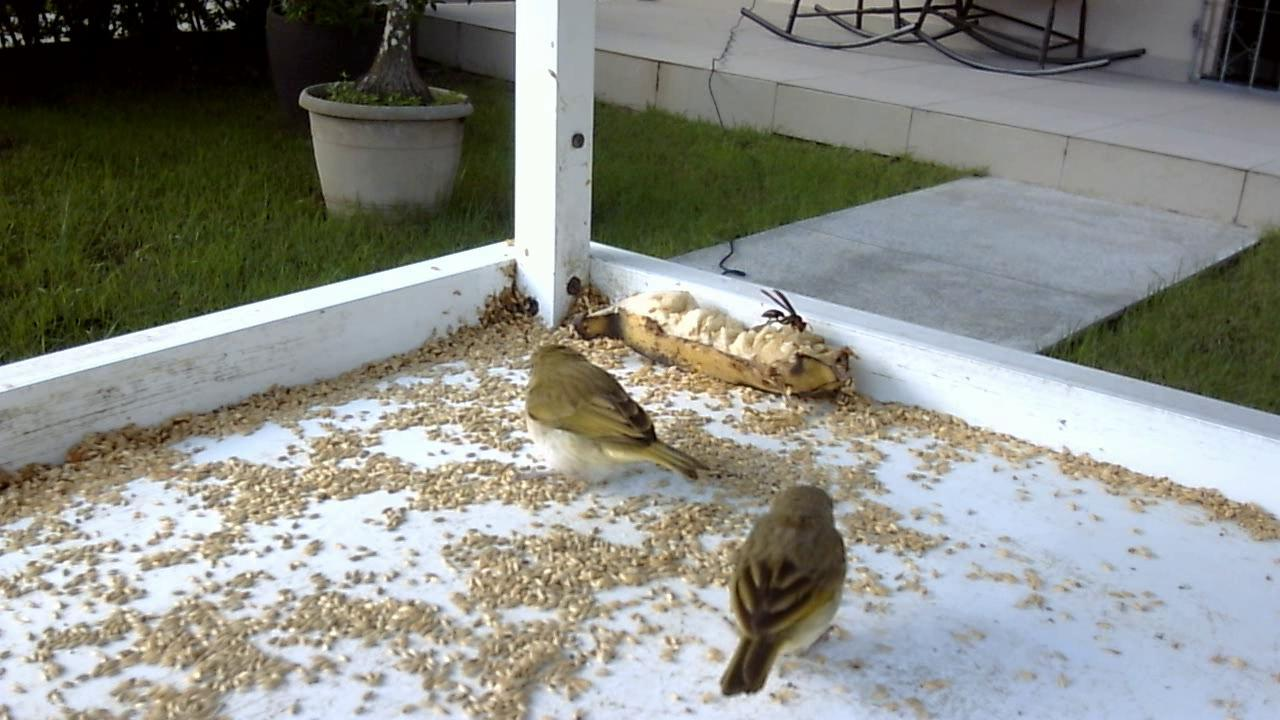canario_do_amazonas: (510, 332, 726, 501), (712, 477, 859, 701)
